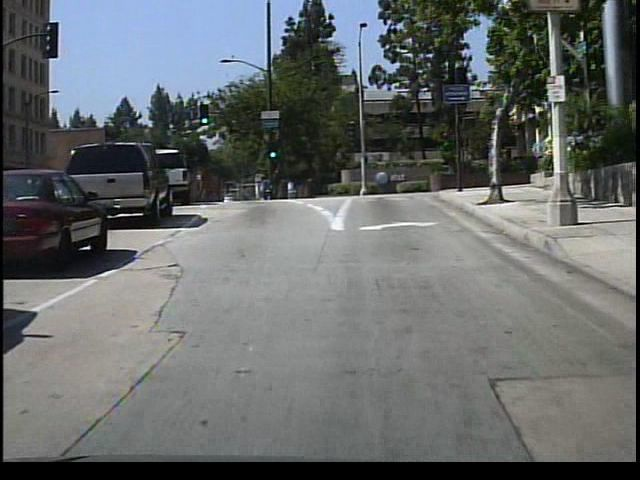person: (256, 169, 275, 203), (284, 174, 299, 201)
